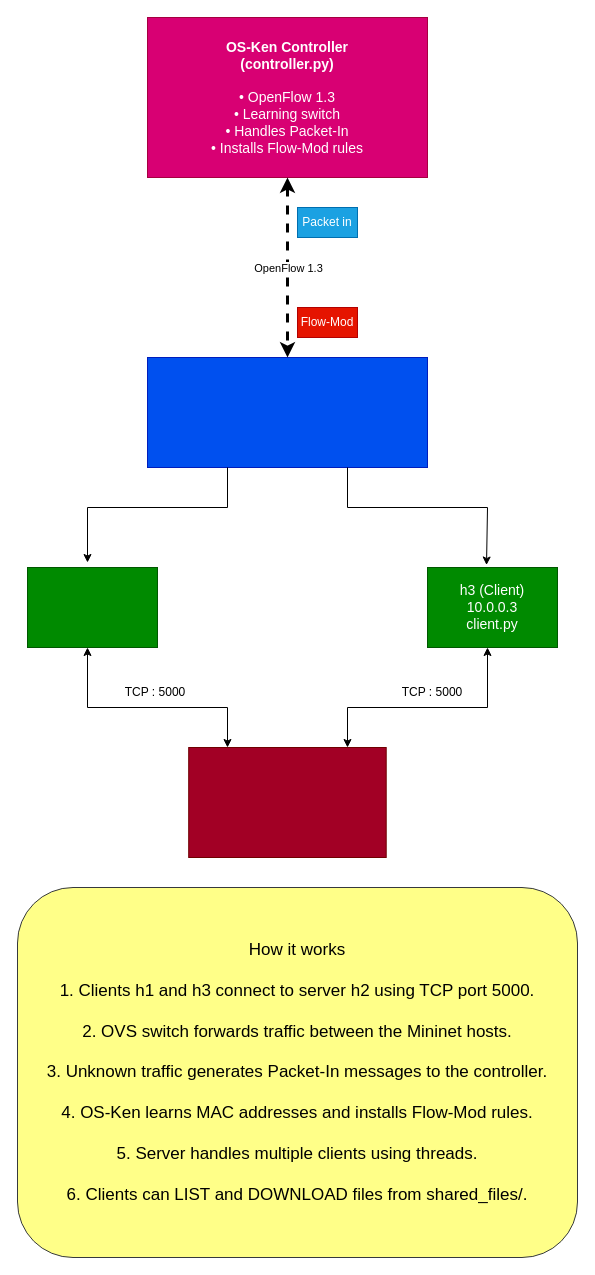
Image size: 595x1275. Some labels were removed from this diagram. Each missing label, with the centre of its shape:
h1 (Client) 10.0.0.1 client.py: point (92, 607)
h2 (Server) 10.0.0.2 server.py TCP : 5000 shared_files/: point (287, 802)
OVS Switch s1 (Mininet): point (287, 412)
